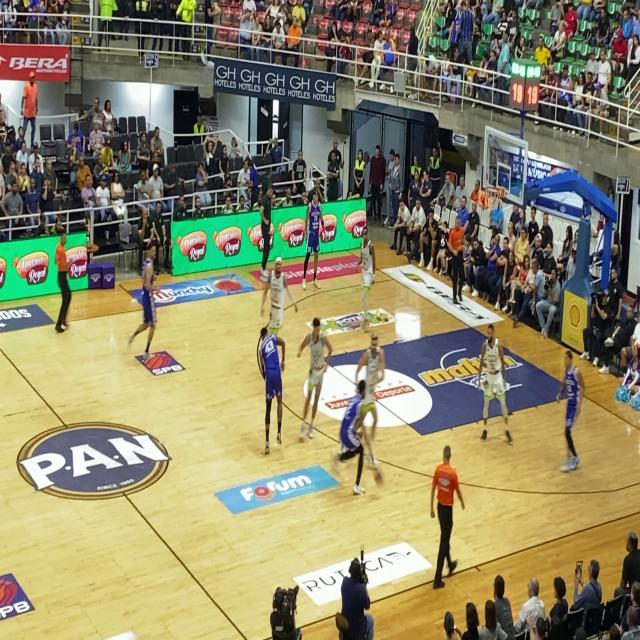referee: (422, 428, 470, 598), (440, 209, 471, 315), (48, 232, 76, 341)
team1: (469, 316, 522, 448), (291, 307, 332, 448), (352, 220, 382, 331), (264, 246, 296, 341), (358, 328, 392, 390)
team2: (330, 369, 376, 500), (251, 320, 294, 460), (554, 335, 589, 483), (132, 227, 164, 371), (303, 185, 327, 295)
